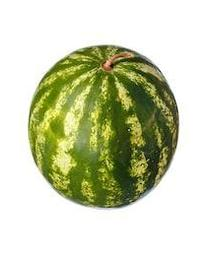watermelon: (26, 41, 179, 212)
